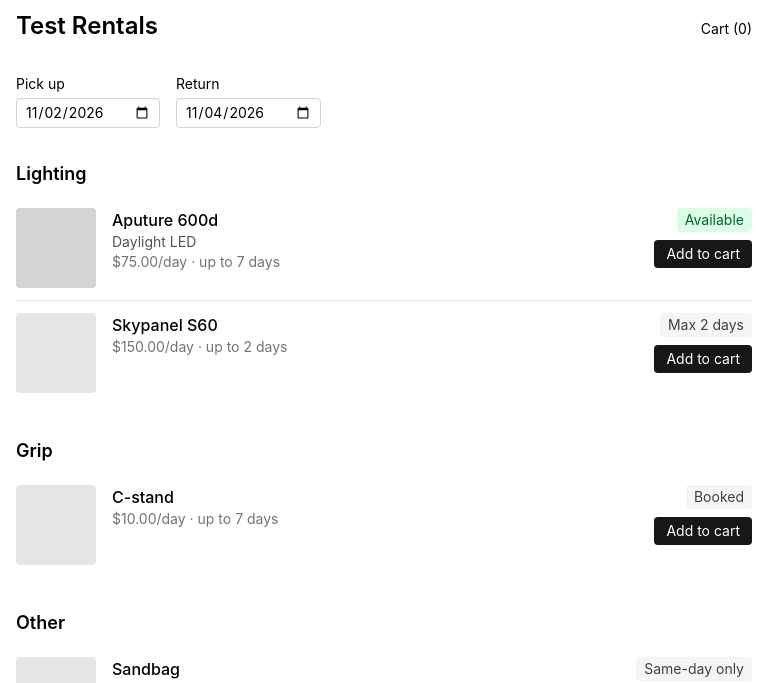
Test case: cart › adds and removes items, whatever their availability, and counts them in the header
Check: the text "C-stand" is shown, box x1=112 y1=487 x2=174 y2=507
Check: the text "Booked" is shown, box x1=686 y1=485 x2=752 y2=509
Step 1. Click the button named "Add to cart C-stand" → (703, 531), box x1=654 y1=517 x2=752 y2=545
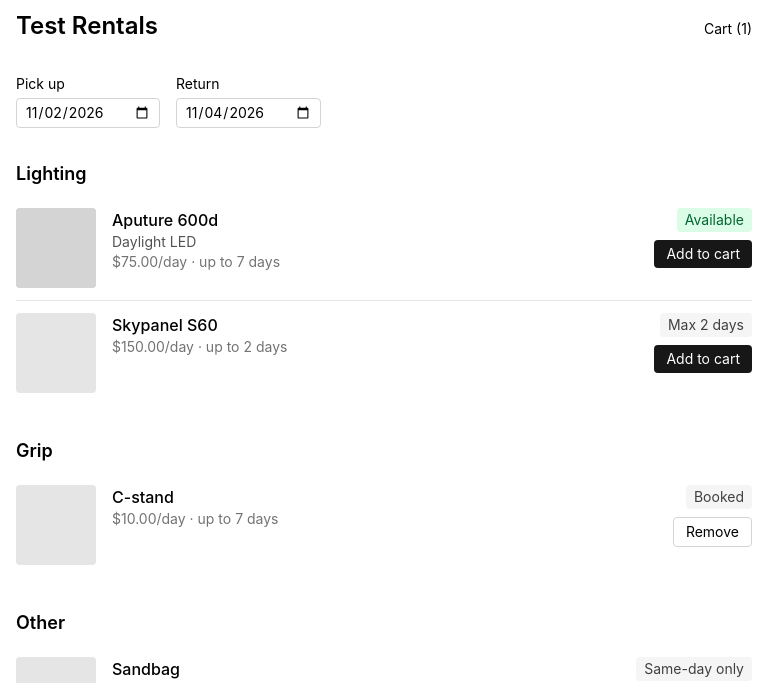
Step 2. Click the button named "Add to cart Aputure 600d" → (703, 254), box x1=654 y1=240 x2=752 y2=268
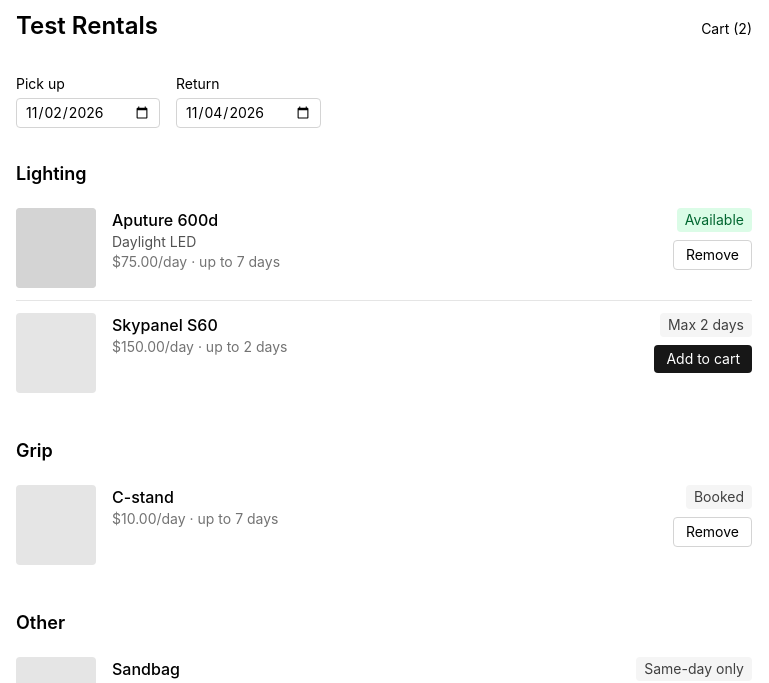
Check: the link "Cart (2)" is shown, box x1=701 y1=19 x2=752 y2=39
Step 3. Click the button named "Remove C-stand" → (712, 532), box x1=673 y1=517 x2=752 y2=547
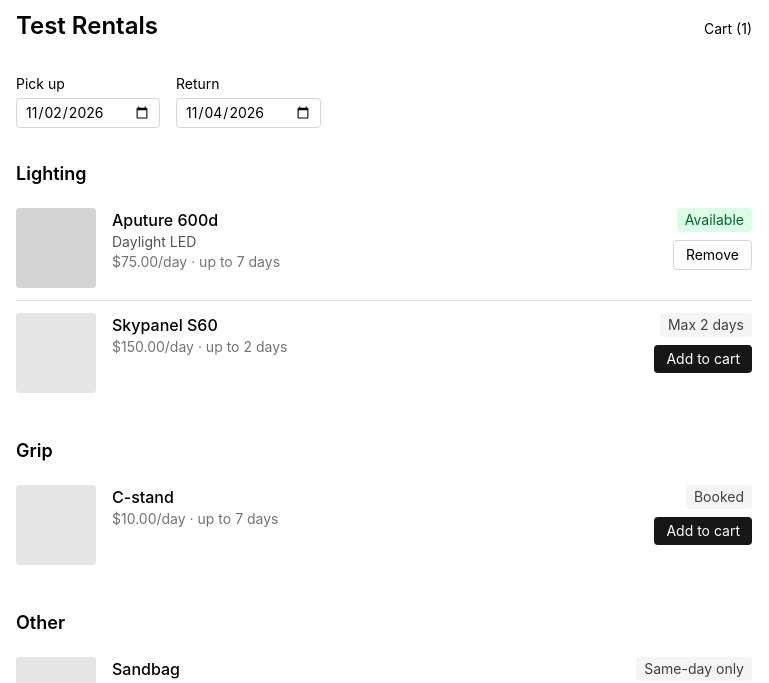
Check: the button named "Add to cart C-stand" is shown, box x1=654 y1=517 x2=752 y2=545
Check: the link "Cart (1)" is shown, box x1=704 y1=19 x2=752 y2=39
